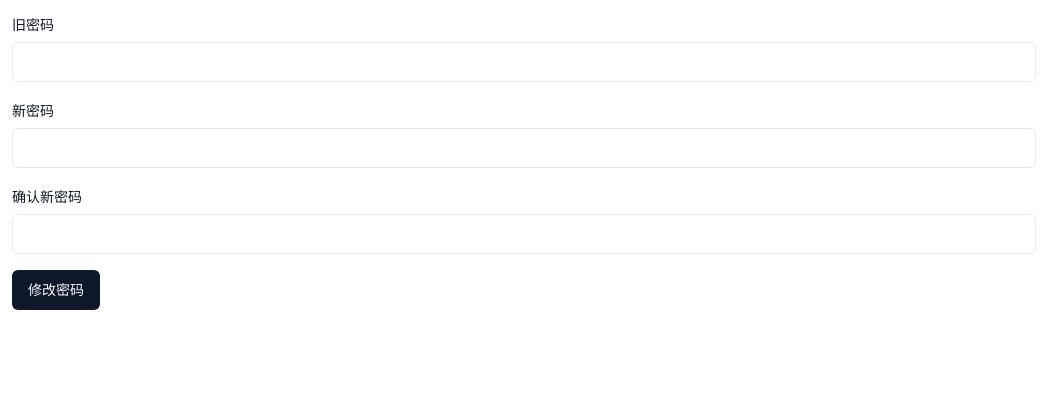
ChangePasswordForm › rejects mismatched new passwords
In the password field labelled "旧密码": (524, 62) [12,42,1036,82], type "Old12345"
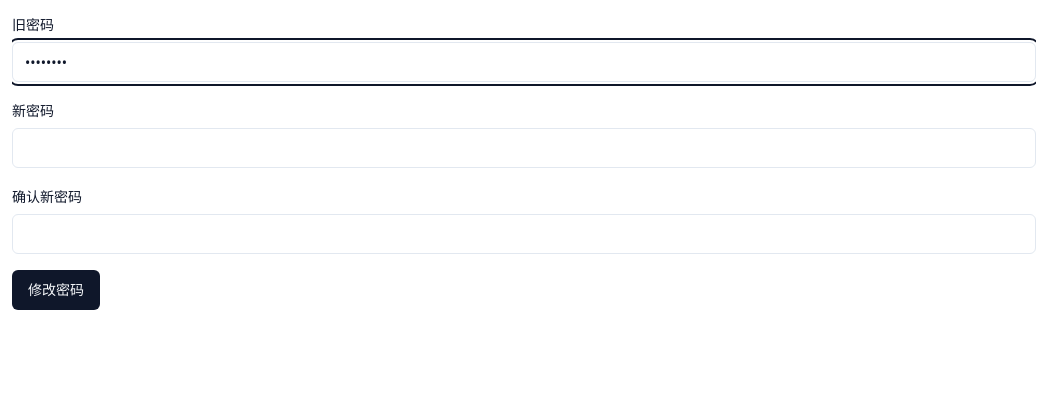
In the password field labelled "新密码": (524, 148) [12,128,1036,168], type "NewSecret1"
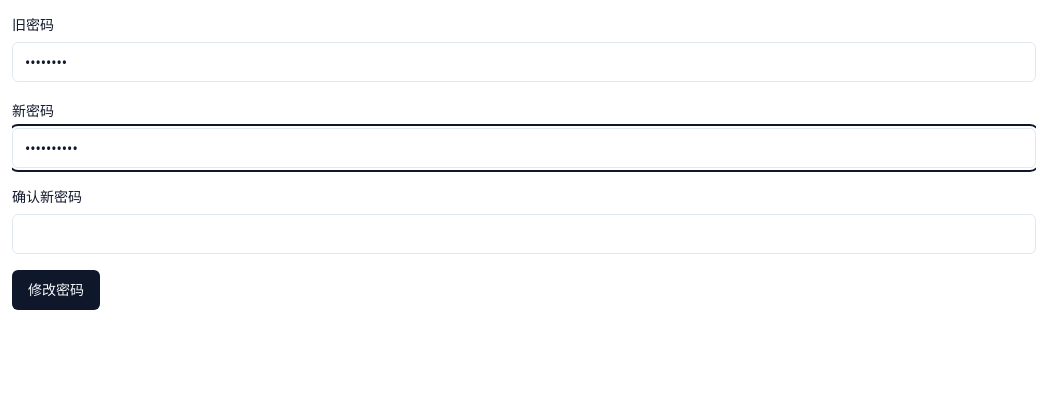
In the password field labelled "确认新密码": (524, 234) [12,214,1036,254], type "Different1"
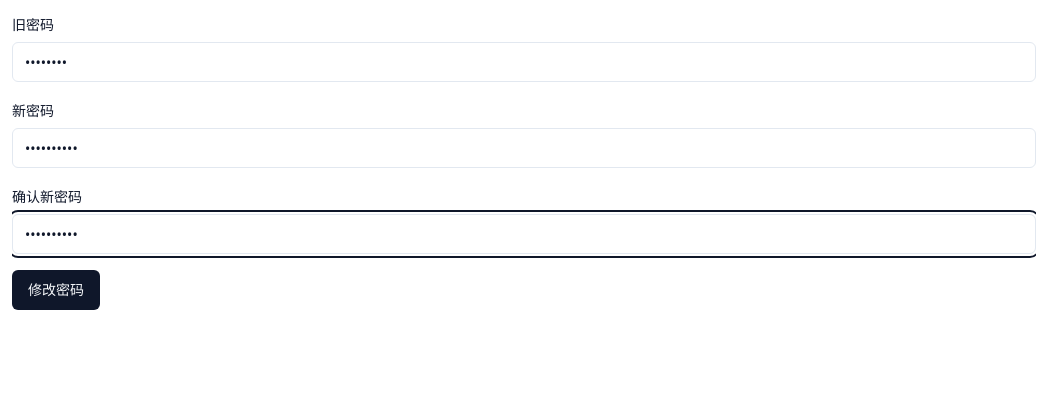
Click the button "修改密码": click(56, 290) [12,270,100,310]
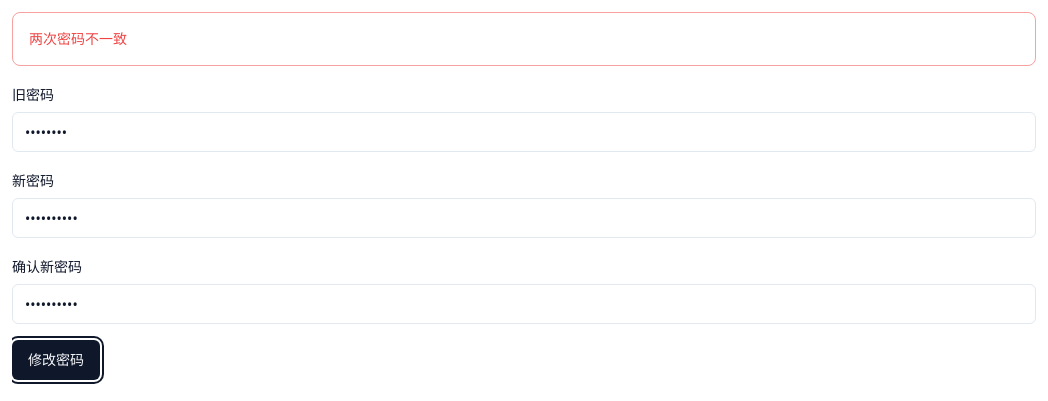
expect the text "两次密码不一致" is shown: met, box [29,29,127,48]
